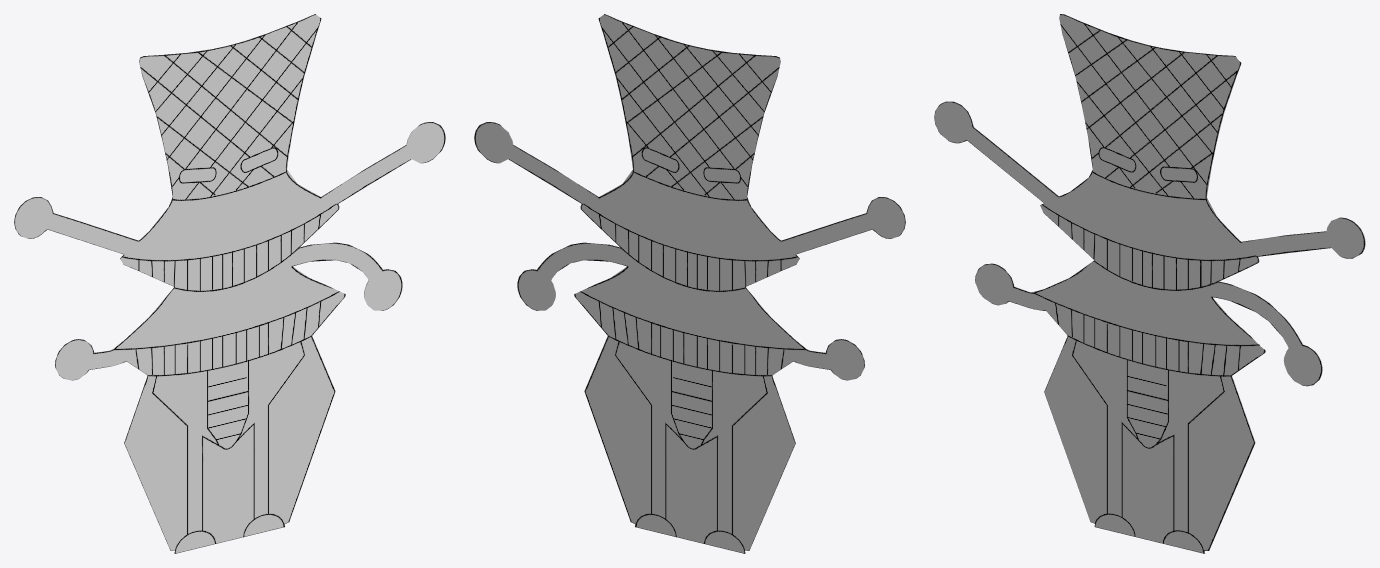
The model's file is 6_mugyul.fbx.
3 renders of one model, left to right at view 1: azimuth 30°, elevation 25°; view 2: azimuth 150°, elevation 25°; view 3: azimuth 330°, elevation 25°, orthographic.
Visible parts, largest first — view 1: erer4; view 2: erer4; view 3: erer4.
Part boxes in pixels (left/top/right/bottom): erer4: left=14, top=14, right=445, bottom=553; erer4: left=474, top=14, right=905, bottom=553; erer4: left=934, top=14, right=1365, bottom=553.
Size of the model in its own units: 27.38 by 30.65 by 0.0358.
1 material, 1 textured.
